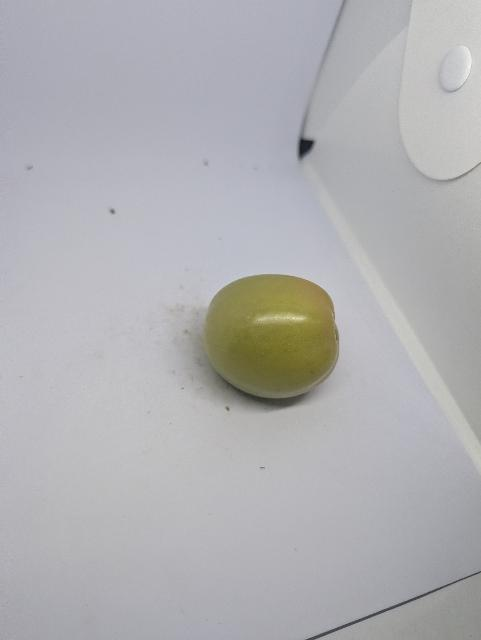breaker: (197, 270, 344, 403)
